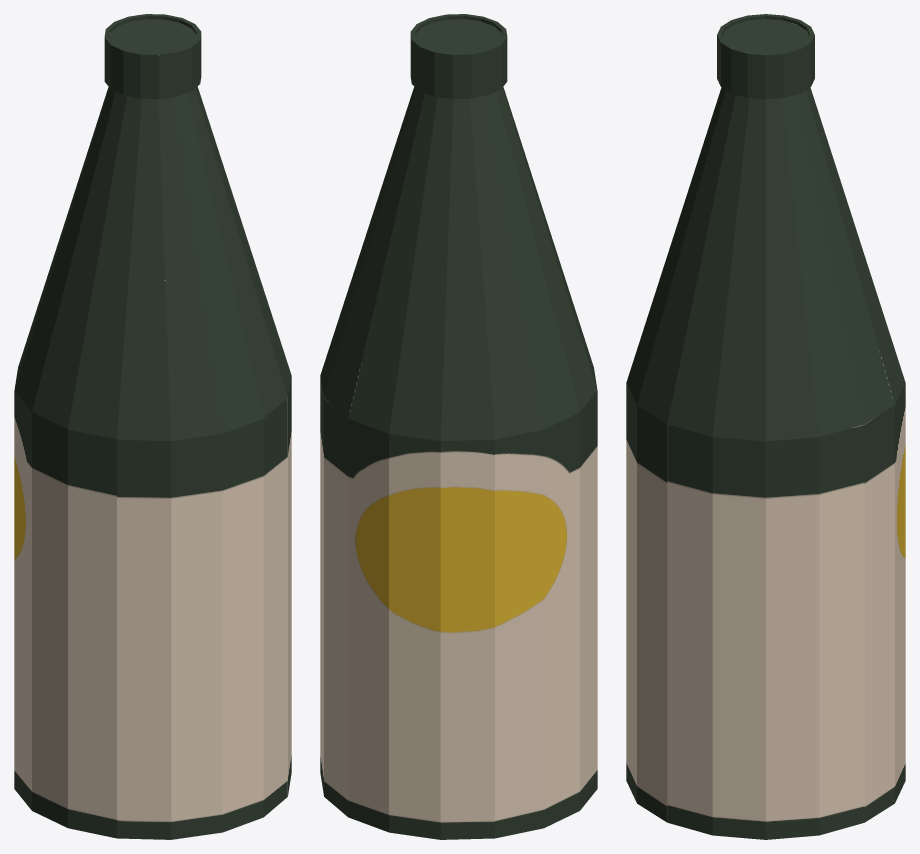
The model's file is Bottle O Beer .fbx.
3 renders of one model, left to right at view 1: azimuth 30°, elevation 25°; view 2: azimuth 150°, elevation 25°; view 3: azimuth 270°, elevation 25°, orthographic.
Parts seen in each view (by area): view 1: Cylinder; view 2: Cylinder; view 3: Cylinder.
Boxes of the visible parts, x1,y1,x2,y2 form: Cylinder: [14, 14, 291, 839]; Cylinder: [320, 14, 597, 839]; Cylinder: [626, 14, 905, 839].
Bounding box in the file's own units: 200 × 590 × 200.
1 material, 1 textured.
